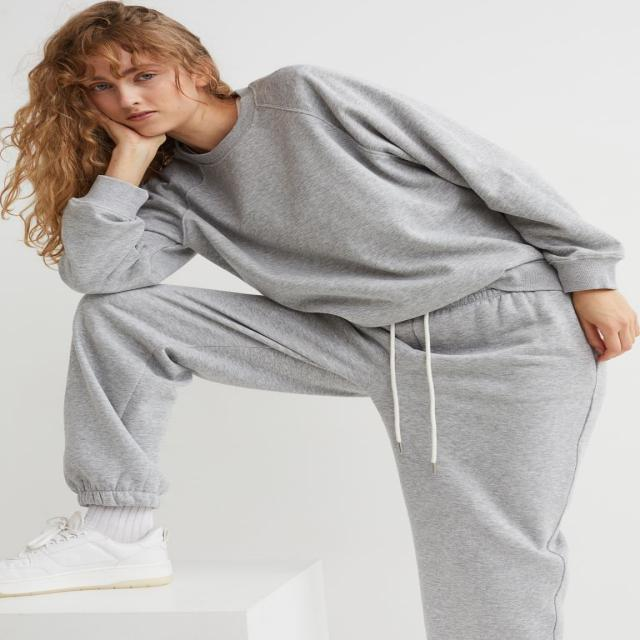plain: (185, 68, 639, 309)
